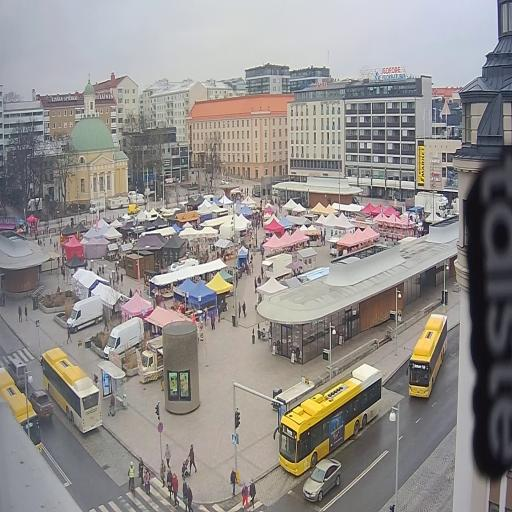bus: (279, 364, 382, 475), (41, 347, 102, 432), (0, 368, 41, 451), (408, 314, 447, 397)
car: (303, 459, 341, 501), (8, 355, 28, 391), (29, 390, 53, 419)
delivery: (104, 317, 144, 359), (67, 298, 103, 332), (137, 336, 163, 383), (415, 191, 450, 218)
